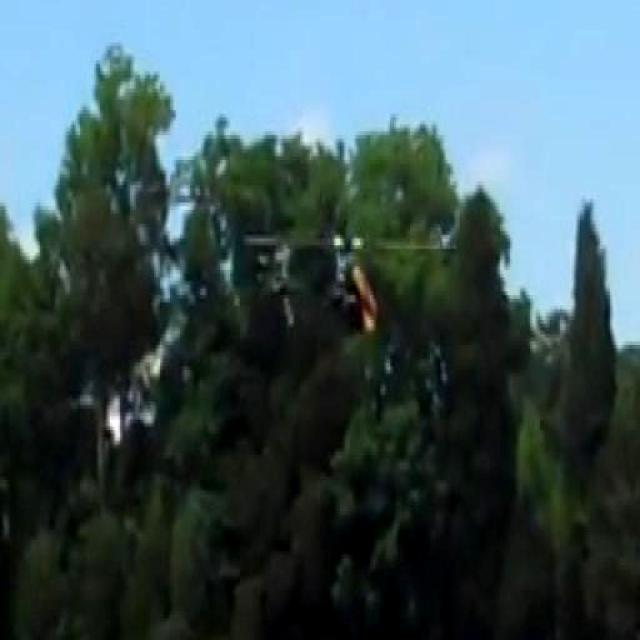drone: (239, 218, 459, 341)
